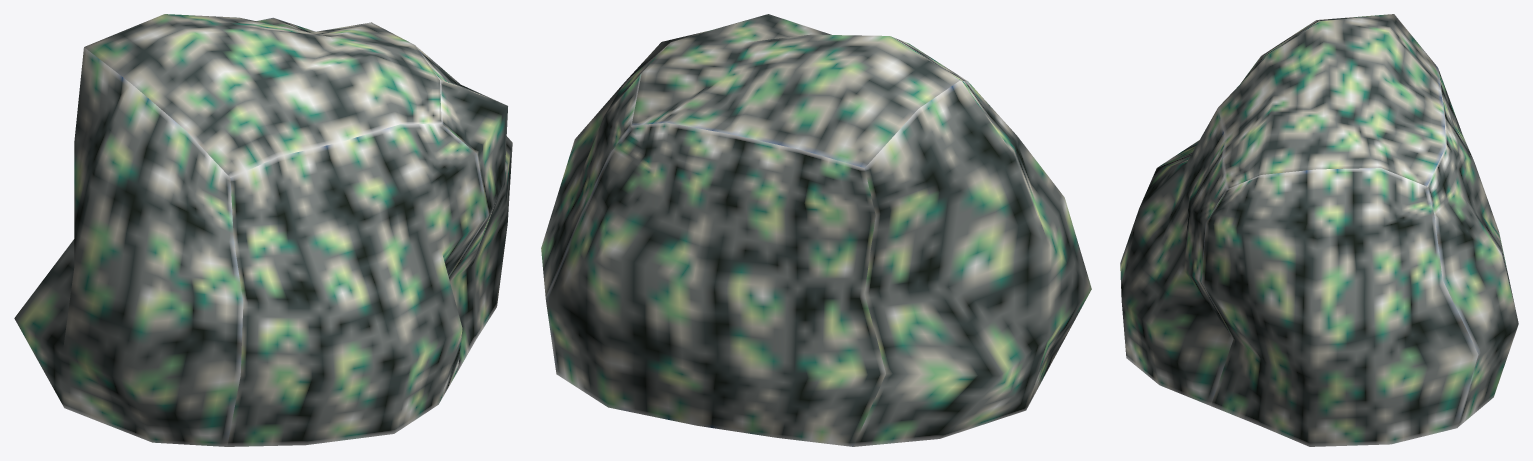
The model's file is medium_mossy_Rock.fbx.
3 renders of one model, left to right at view 1: azimuth 30°, elevation 25°; view 2: azimuth 150°, elevation 25°; view 3: azimuth 270°, elevation 25°, orthographic. The views are drawn at different scales.
Parts seen in each view (by area): view 1: medium_mossy_Rock; view 2: medium_mossy_Rock; view 3: medium_mossy_Rock.
Part boxes in pixels (x1,y1,x2,y2): medium_mossy_Rock: (14,14,512,446); medium_mossy_Rock: (541,14,1091,446); medium_mossy_Rock: (1120,14,1518,446).
Size of the model in its own units: 1.65 by 1.17 by 1.41.
